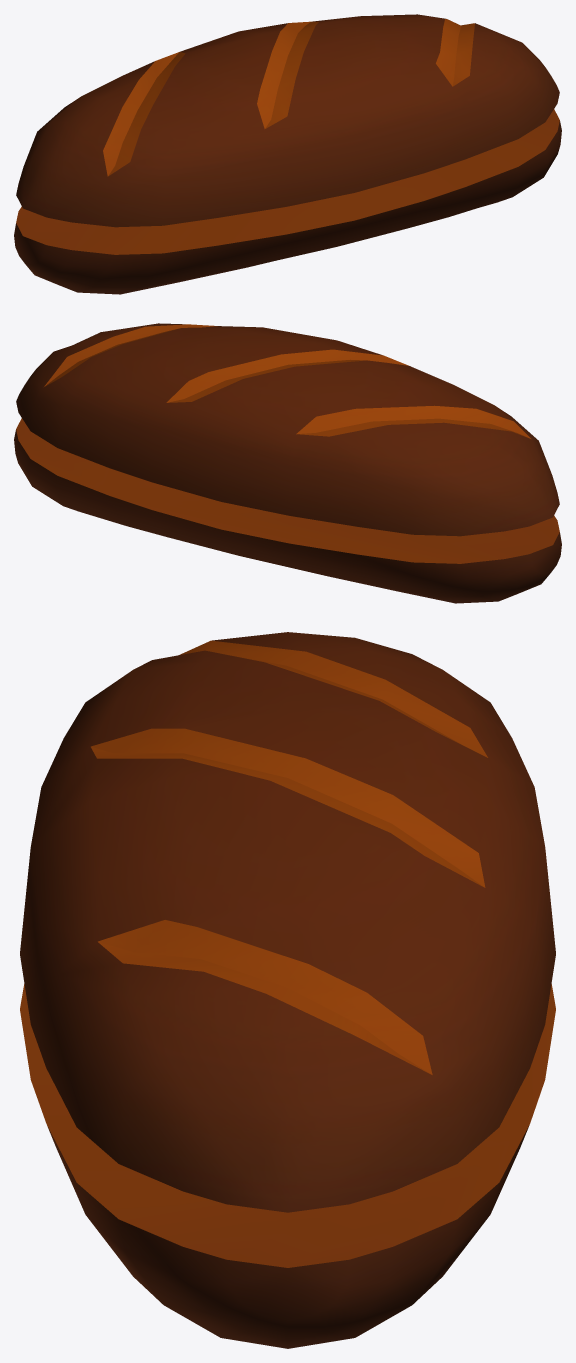
The model's file is Sandwich_Loaf_top.006.fbx.
3 renders of one model, top to bottom at view 1: azimuth 30°, elevation 25°; view 2: azimuth 150°, elevation 25°; view 3: azimuth 270°, elevation 25°, orthographic. The views are drawn at different scales.
Visible parts, largest first — view 1: Sandwich_Loaf_top.006, Sandwich_Loaf_Bottom.006; view 2: Sandwich_Loaf_top.006, Sandwich_Loaf_Bottom.006; view 3: Sandwich_Loaf_top.006, Sandwich_Loaf_Bottom.006.
Boxes of the visible parts, bbox=[...] form: Sandwich_Loaf_top.006: bbox=[16, 14, 559, 227]; Sandwich_Loaf_Bottom.006: bbox=[14, 109, 561, 294]; Sandwich_Loaf_top.006: bbox=[16, 323, 559, 536]; Sandwich_Loaf_Bottom.006: bbox=[14, 418, 561, 603]; Sandwich_Loaf_top.006: bbox=[20, 632, 555, 1212]; Sandwich_Loaf_Bottom.006: bbox=[20, 984, 555, 1348].
Bounding box in the file's own units: 172 × 58.21 × 75.14.
